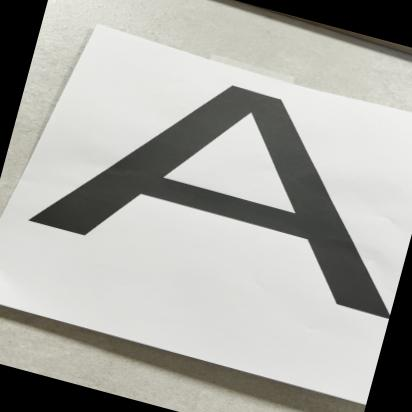seat: (28, 34, 412, 351)
